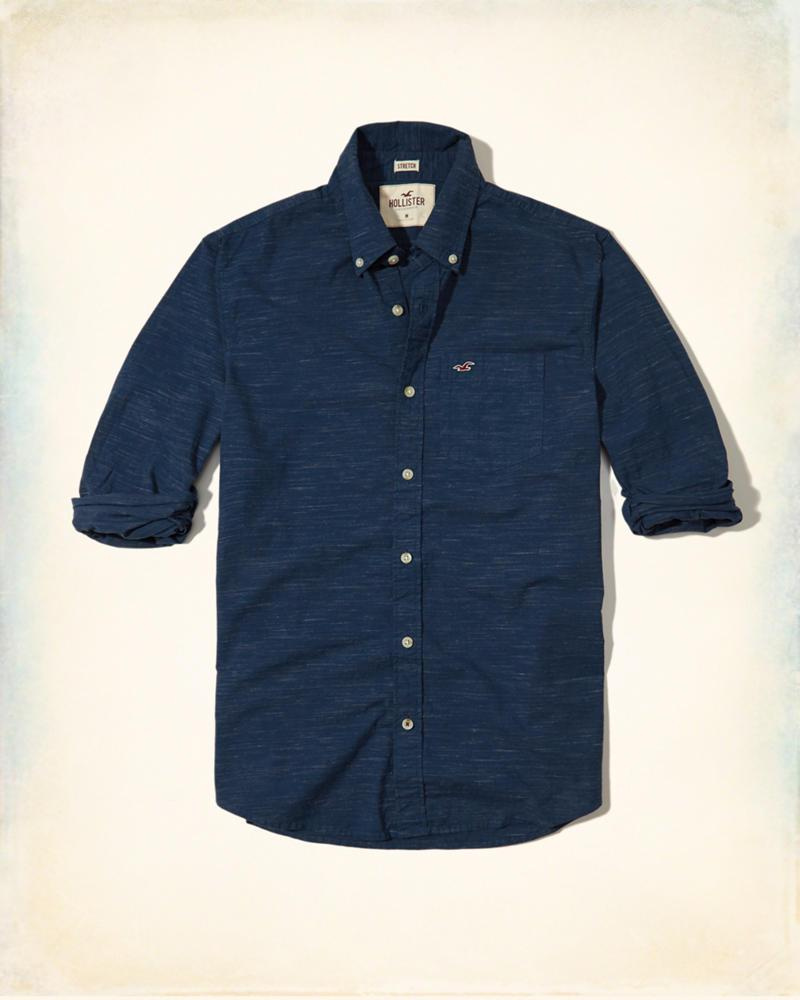teeshirt: (52, 134, 747, 850)
